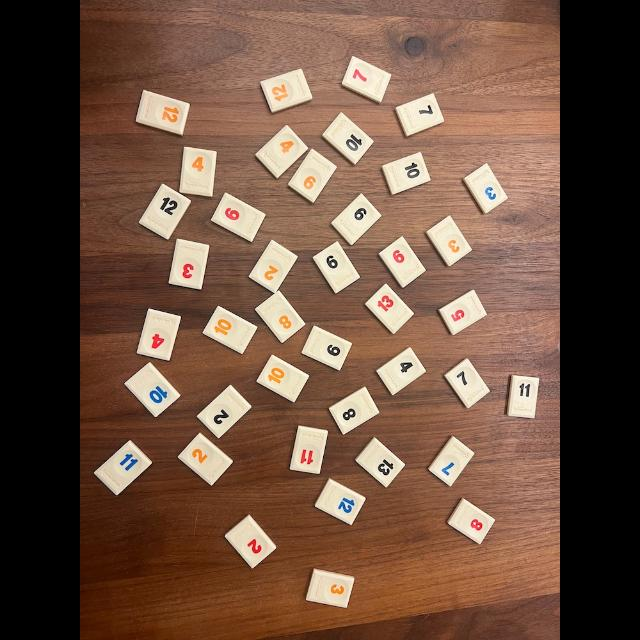black_10: (322, 112, 374, 164), (382, 152, 430, 195)
black_11: (508, 375, 539, 419)
black_12: (139, 184, 191, 239)
black_13: (355, 438, 405, 488)
black_2: (198, 385, 251, 438)
black_4: (376, 348, 425, 395)
black_6: (331, 194, 381, 245), (314, 241, 360, 294)
black_7: (445, 359, 490, 408), (396, 94, 444, 136)
black_8: (329, 388, 379, 434)
black_9: (302, 326, 351, 370)
blue_10: (125, 362, 180, 418)
blue_11: (94, 441, 151, 495)
blue_12: (316, 479, 365, 525)
blue_3: (464, 164, 508, 214)
blue_7: (429, 436, 474, 486)
orange_10: (202, 306, 258, 354), (256, 355, 309, 402)
orange_12: (137, 90, 190, 135), (260, 69, 312, 112)
orange_2: (178, 432, 232, 485), (249, 240, 298, 292)
orange_3: (426, 216, 471, 266), (306, 569, 354, 608)
orange_4: (256, 125, 308, 178), (180, 146, 216, 196)
orange_8: (255, 290, 305, 342)
orange_9: (289, 149, 336, 202)
red_11: (290, 425, 328, 474)
red_13: (365, 284, 414, 334)
red_2: (225, 515, 276, 568)
red_3: (169, 239, 209, 290)
red_4: (136, 309, 181, 361)
red_5: (439, 290, 486, 335)
red_6: (211, 192, 265, 241), (379, 236, 425, 288)
red_7: (342, 56, 391, 102)
red_8: (448, 499, 495, 544)
